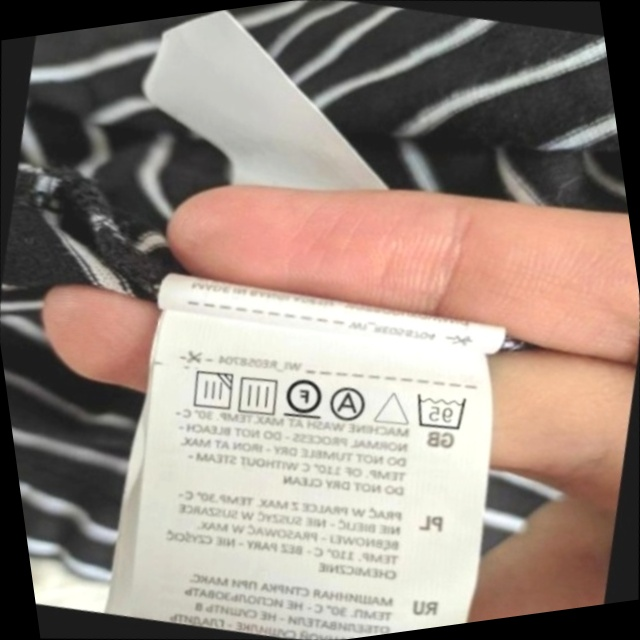95C: (402, 377, 479, 445)
bleach: (365, 377, 421, 437)
drip_dry: (225, 362, 291, 427)
drip_dry_in_shade: (177, 357, 244, 424)
dry_clean: (320, 375, 378, 432)
dry_clean_petrol_only: (272, 364, 335, 430)
